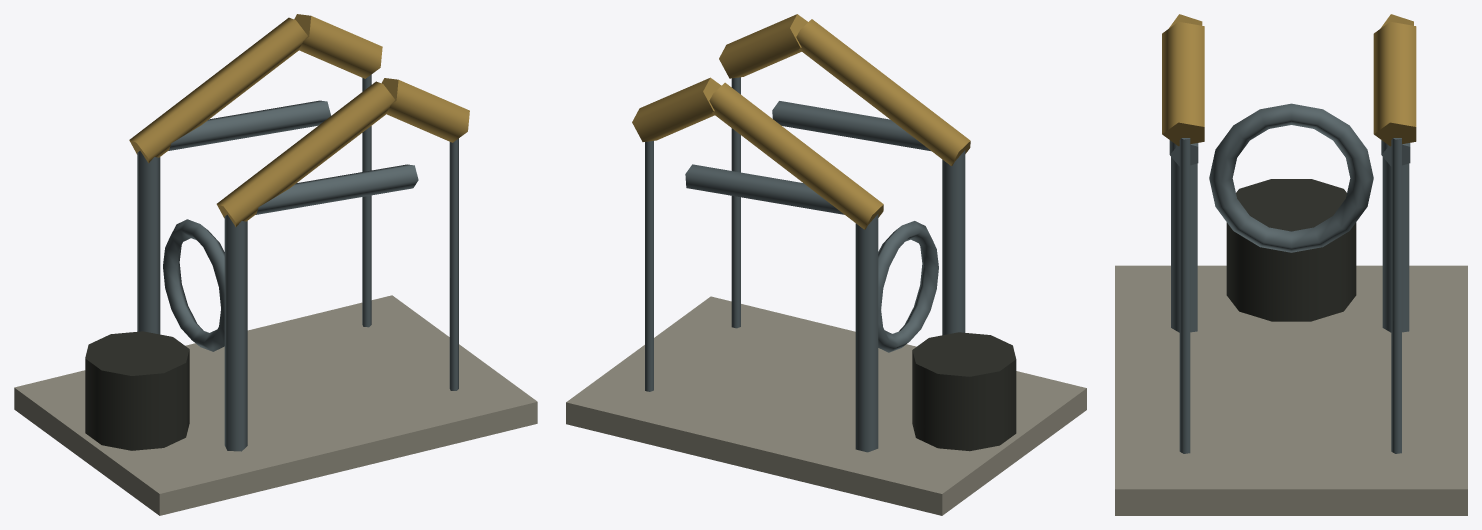
File: custom-imp-oilwell.glb
3 renders of one model, left to right at view 1: azimuth 30°, elevation 25°; view 2: azimuth 150°, elevation 25°; view 3: azimuth 270°, elevation 25°, orthographic. The views are drawn at different scales.
Visible parts, largest first — view 1: custom-imp-oilwell; view 2: custom-imp-oilwell; view 3: custom-imp-oilwell.
Boxes of the visible parts, x1,y1,x2,y2 form: custom-imp-oilwell: (14,14,537,515); custom-imp-oilwell: (566,14,1086,515); custom-imp-oilwell: (1115,14,1467,515).
Size of the model in its own units: 1 by 0.891 by 0.6667.
